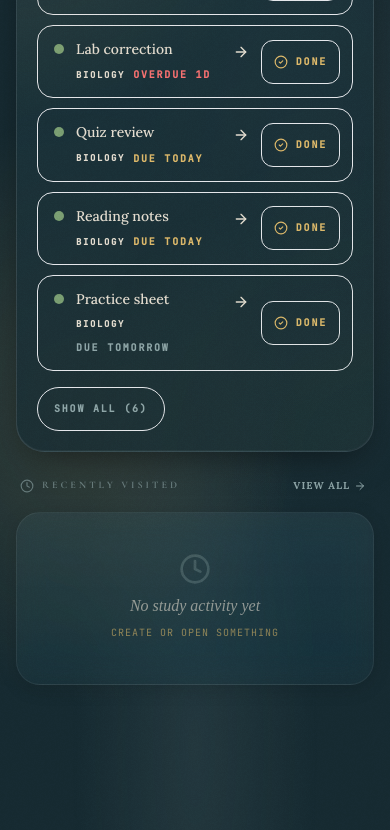
DashboardHome analytics repositioning › expands the strict priority list inline and orders urgency correctly
This screenshot has width=390, height=830.
(page scrolled)
Expected: the text "Practice sheet" is shown, [76,290,169,308]
Expected: the text "Discussion prep" is not shown
Click the button "Show all (6)".
click(101, 408)  # box [37,386,165,430]
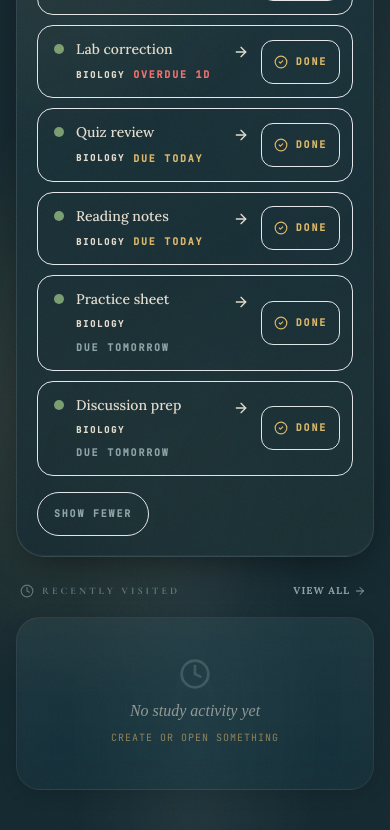
Result: the text "Discussion prep" is shown at [76,396,181,414]
Result: the button "Show fewer" is shown at [37,492,149,536]
